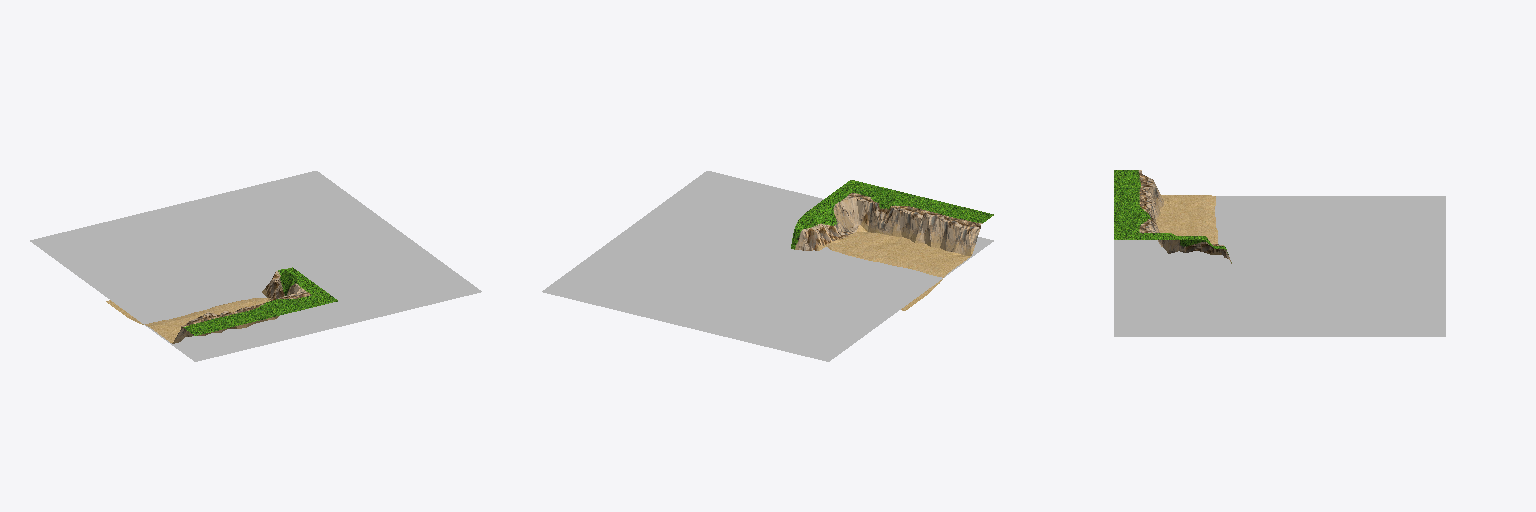
3 views of the same model, side by side, from view 1: azimuth 30°, elevation 25°; view 2: azimuth 150°, elevation 25°; view 3: azimuth 270°, elevation 25° (orthographic).
Visible parts, largest first — view 1: ocean_Plane.002, cliff_Grid; view 2: ocean_Plane.002, cliff_Grid; view 3: ocean_Plane.002, cliff_Grid.
Boxes of the visible parts, x1,y1,x2,y2 form: ocean_Plane.002: [30, 171, 481, 361]; cliff_Grid: [106, 267, 337, 343]; ocean_Plane.002: [542, 171, 993, 361]; cliff_Grid: [791, 180, 993, 310]; ocean_Plane.002: [1114, 196, 1445, 336]; cliff_Grid: [1114, 170, 1231, 263].
Size of the model in its own units: 200 by 21.51 by 200.
Materials: 2 (1 with a texture image).